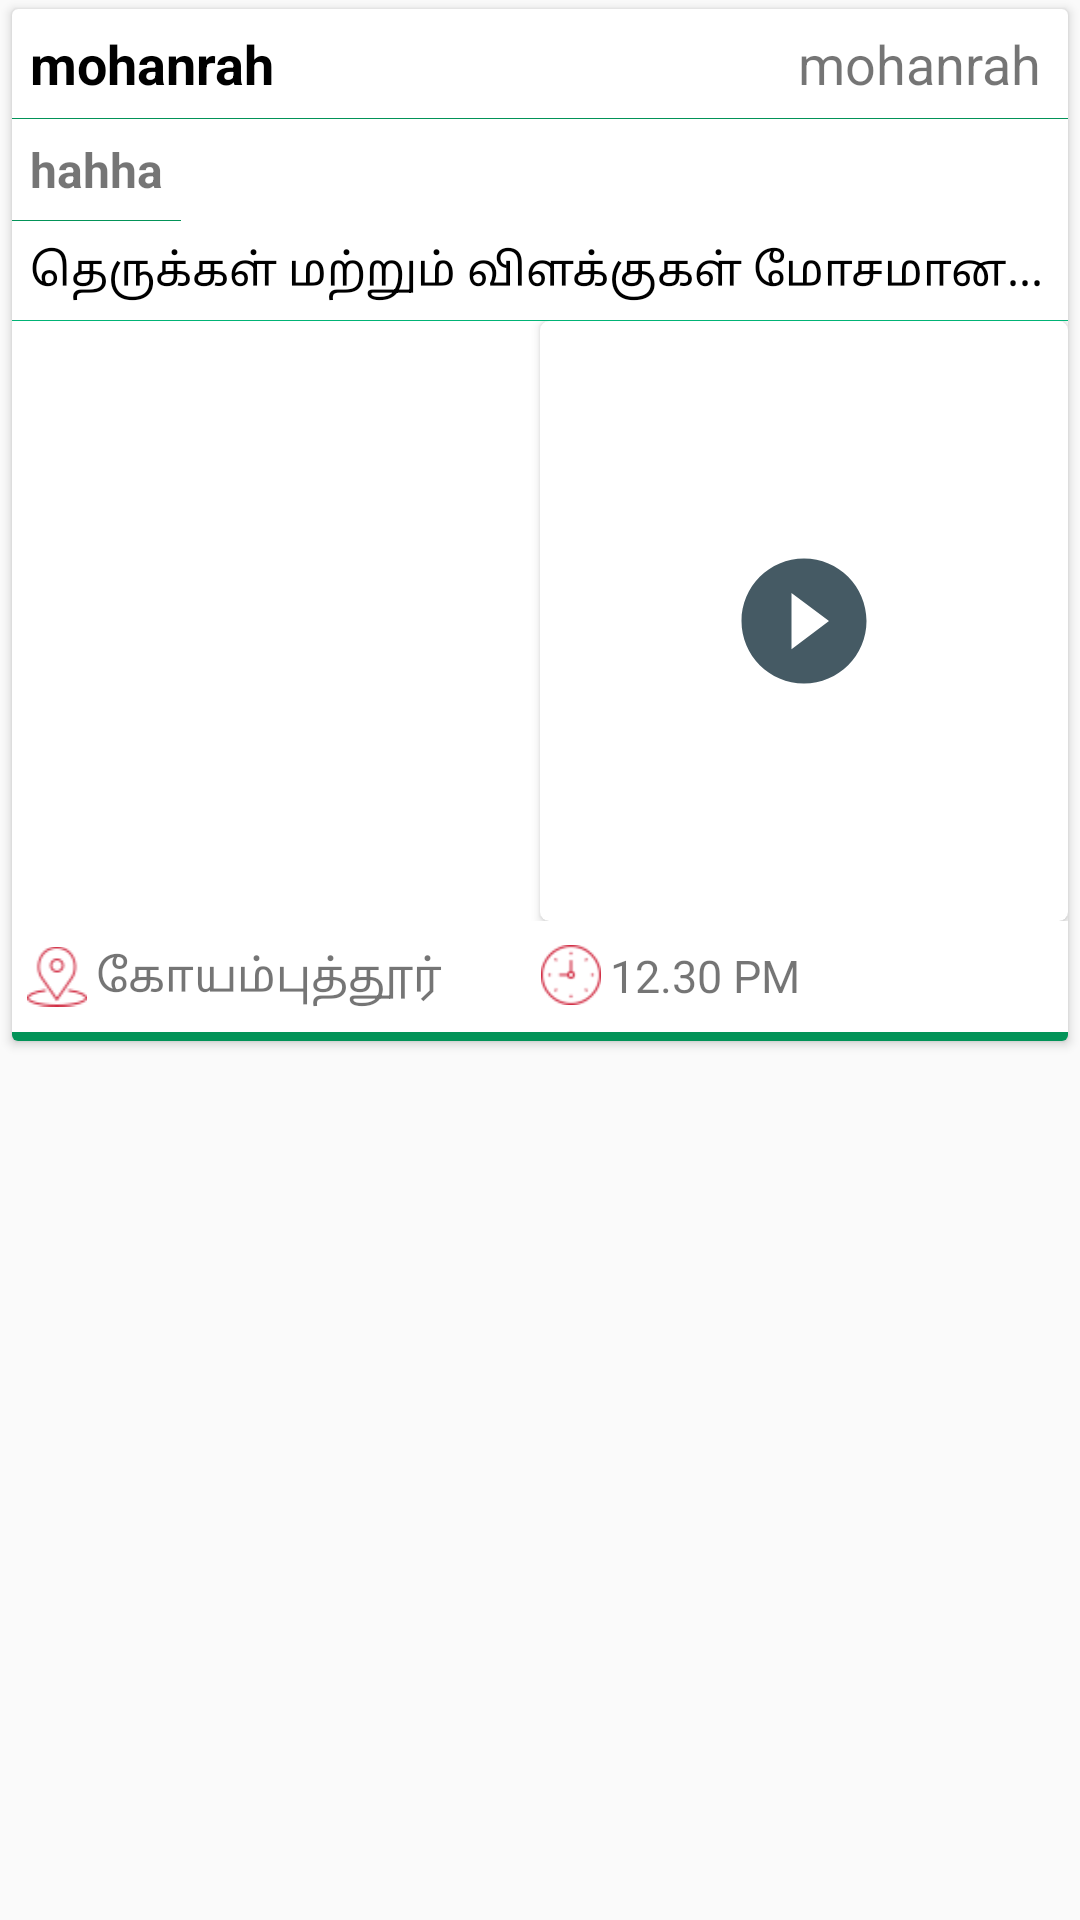

Icons on this 1080x1920 Android screen, each with its box as (x1, y1, x2, y2):
clock: (541, 945, 601, 1005)
play circle: (741, 558, 867, 684)
